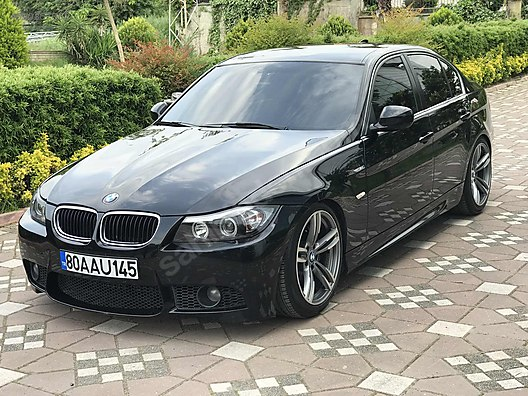bmw: (15, 42, 500, 327)
